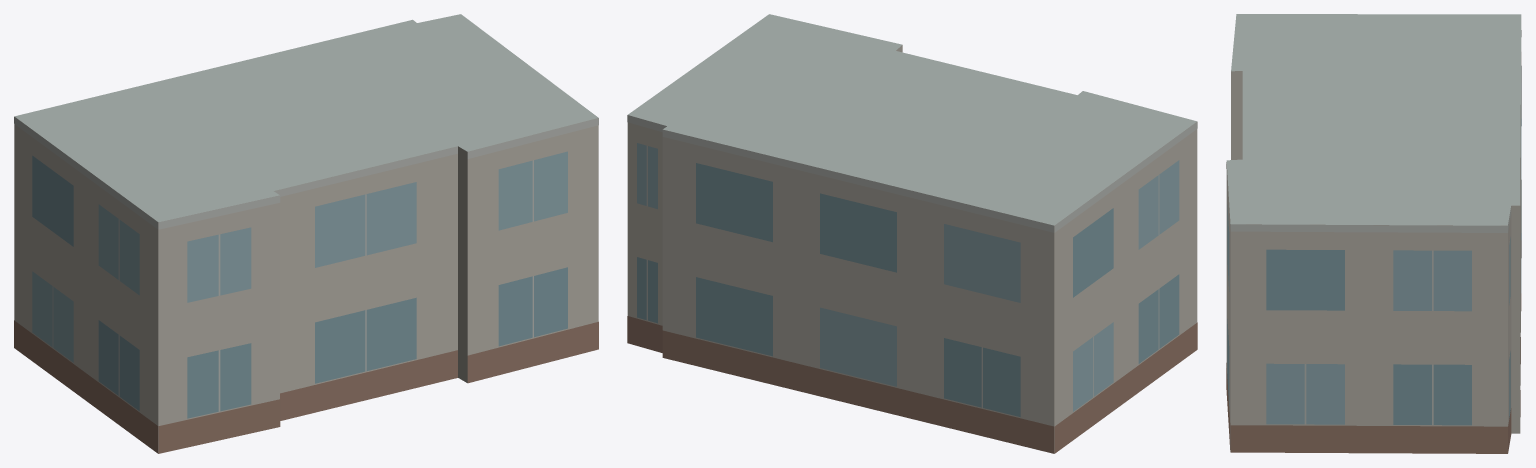
Rendered from survey-upis-32638753.glb.
3 renders of one model, left to right at view 1: azimuth 30°, elevation 25°; view 2: azimuth 150°, elevation 25°; view 3: azimuth 270°, elevation 25°, orthographic.
Visible parts, largest first — view 1: survey-upis-32638753.tmp; view 2: survey-upis-32638753.tmp; view 3: survey-upis-32638753.tmp.
Boxes of the visible parts, <box> form: survey-upis-32638753.tmp: <box>14,14,598,453</box>; survey-upis-32638753.tmp: <box>627,14,1197,453</box>; survey-upis-32638753.tmp: <box>1226,14,1521,453</box>.
Size of the model in its own units: 15.14 by 7.6 by 8.91.
